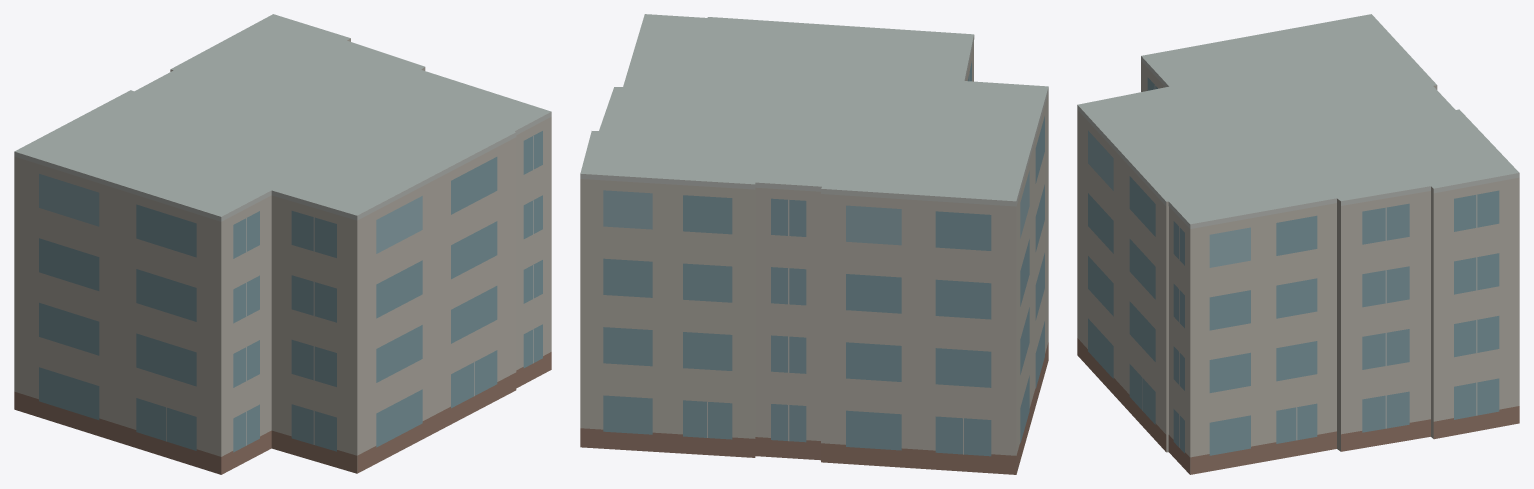
The model's file is survey-upis-32772870.glb.
3 views of the same model, side by side, from view 1: azimuth 30°, elevation 25°; view 2: azimuth 150°, elevation 25°; view 3: azimuth 270°, elevation 25° (orthographic). The views are drawn at different scales.
Visible parts, largest first — view 1: survey-upis-32772870.tmp; view 2: survey-upis-32772870.tmp; view 3: survey-upis-32772870.tmp.
Part boxes in pixels (x1,y1,x2,y2): survey-upis-32772870.tmp: (14, 14, 551, 474); survey-upis-32772870.tmp: (580, 14, 1048, 474); survey-upis-32772870.tmp: (1077, 14, 1519, 474).
Bounding box in the file's own units: 23.24 × 12.9 × 20.64.
